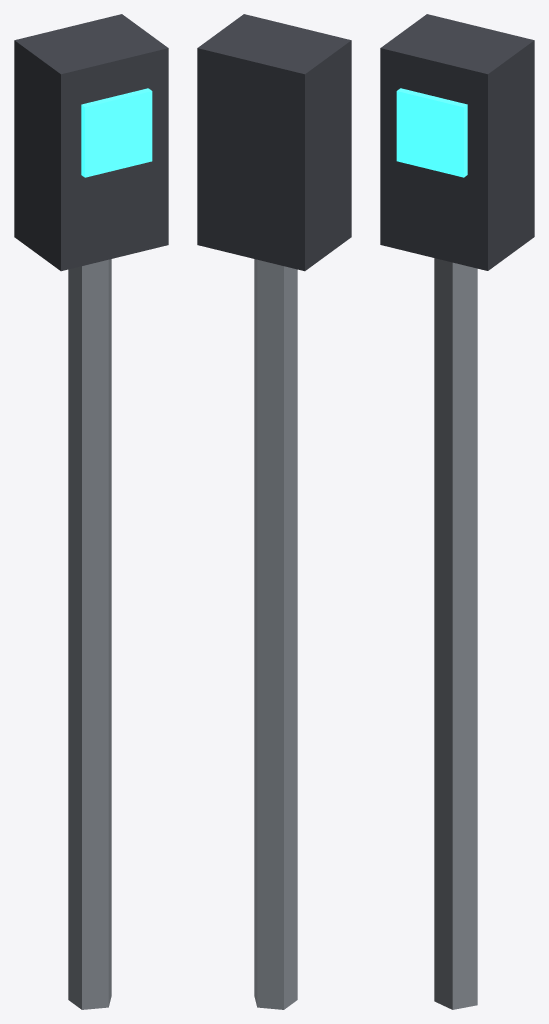
File: parking_meter.glb
The picture shows the model from 3 angles, left to right: view 1: azimuth 30°, elevation 25°; view 2: azimuth 150°, elevation 25°; view 3: azimuth 330°, elevation 25°; orthographic projection.
Parts seen in each view (by area): view 1: parking_meter; view 2: parking_meter; view 3: parking_meter.
Part boxes in pixels (box(x1,y1,x2,y2)): parking_meter: box(14, 14, 168, 1009); parking_meter: box(197, 14, 351, 1009); parking_meter: box(380, 14, 534, 1009).
Size of the model in its own units: 0.16 by 1.36 by 0.13.
